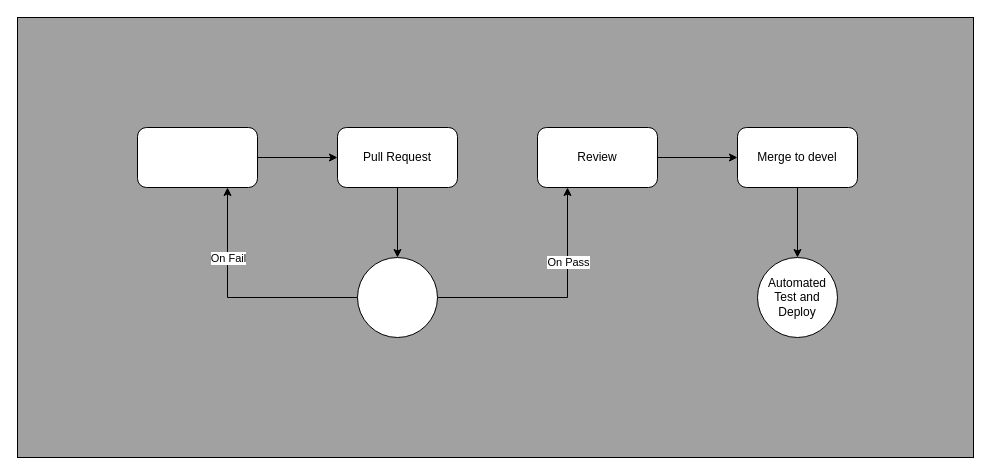
The diagram is 991 pixels wide and 475 high, and some of its shapes have lost their labels. Here are the shapes that lost their labels. From the top down, the centre of each, then its label:
the point at 197,157: Feature Branch
the point at 397,297: Automated Test
